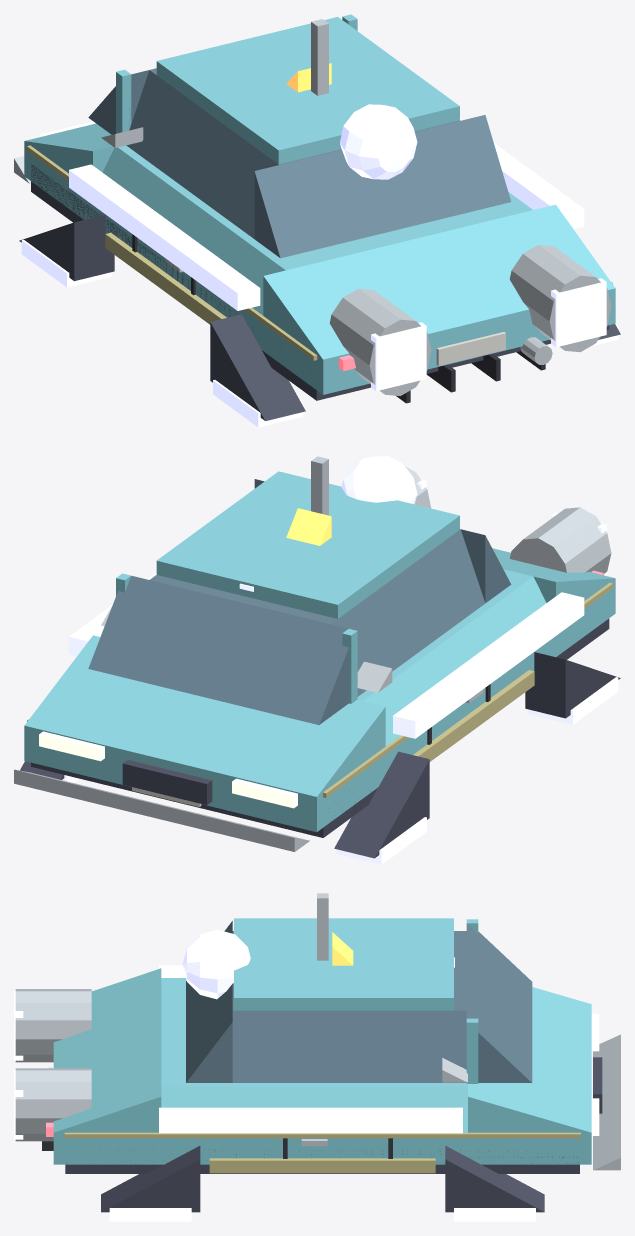
Rendered from nova_navigator.glb.
3 views of the same model, one above another, from view 1: azimuth 30°, elevation 25°; view 2: azimuth 150°, elevation 25°; view 3: azimuth 270°, elevation 25° (orthographic). The views are drawn at different scales.
Parts seen in each view (by area): view 1: Tail.110, Roof.310, RearWindow.210, CabinSideL.107, Body.310, FloatFin-1.052, ShoulderL.107, HoverPodWheel_RL.052, BodyUpper.107, EnergyCore.052, Thruster1.052, Thruster-1.052 (+15 smaller); view 2: Windshield.210, Nose.107, Roof.310, Body.310, CabinSideL.107, FloatFin-1.052, ShoulderL.107, HoverPodWheel_FL.052, Thruster-1.052, Bumper.306, HoverPodWheel_RL.052, EnergyCore.052 (+17 smaller); view 3: Roof.310, CabinSideR.107, Tail.110, Body.310, Nose.107, FloatFin1.052, Windshield.210, ShoulderR.107, Thruster-1.052, Thruster1.052, RearWindow.210, HoverPodWheel_RR.052 (+15 smaller).
Boxes of the visible parts, bbox=[...] form: Tail.110: bbox=[263, 204, 615, 359]; Roof.310: bbox=[156, 17, 459, 164]; RearWindow.210: bbox=[254, 115, 511, 258]; CabinSideL.107: bbox=[126, 70, 278, 238]; Body.310: bbox=[24, 141, 615, 394]; FloatFin-1.052: bbox=[69, 164, 260, 310]; ShoulderL.107: bbox=[102, 147, 285, 315]; HoverPodWheel_RL.052: bbox=[210, 314, 305, 420]; BodyUpper.107: bbox=[118, 145, 532, 270]; EnergyCore.052: bbox=[340, 104, 417, 179]; Thruster1.052: bbox=[509, 245, 611, 352]; Thruster-1.052: bbox=[329, 288, 431, 395]; Windshield.210: bbox=[88, 575, 348, 724]; Nose.107: bbox=[24, 635, 385, 796]; Roof.310: bbox=[156, 471, 459, 618]; Body.310: bbox=[24, 578, 615, 832]; CabinSideL.107: bbox=[331, 529, 485, 696]; FloatFin-1.052: bbox=[393, 592, 584, 738]; ShoulderL.107: bbox=[363, 576, 546, 746]; HoverPodWheel_FL.052: bbox=[334, 751, 429, 858]; Thruster-1.052: bbox=[509, 507, 611, 573]; Bumper.306: bbox=[14, 769, 309, 851]; HoverPodWheel_RL.052: bbox=[525, 652, 620, 718]; EnergyCore.052: bbox=[341, 456, 417, 504]; Roof.310: bbox=[234, 918, 453, 1010]; CabinSideR.107: bbox=[232, 1010, 466, 1082]; Tail.110: bbox=[53, 968, 161, 1132]; Body.310: bbox=[53, 1132, 591, 1164]; Nose.107: bbox=[468, 987, 591, 1132]; FloatFin1.052: bbox=[159, 1107, 462, 1133]; Windshield.210: bbox=[466, 923, 532, 1082]; ShoulderR.107: bbox=[161, 1086, 467, 1132]; Thruster-1.052: bbox=[15, 989, 91, 1062]; Thruster1.052: bbox=[15, 1068, 91, 1141]; RearWindow.210: bbox=[186, 921, 232, 1082]; HoverPodWheel_RR.052: bbox=[101, 1146, 200, 1212].
Size of the model in its own units: 3.2 by 2.33 by 5.19.
